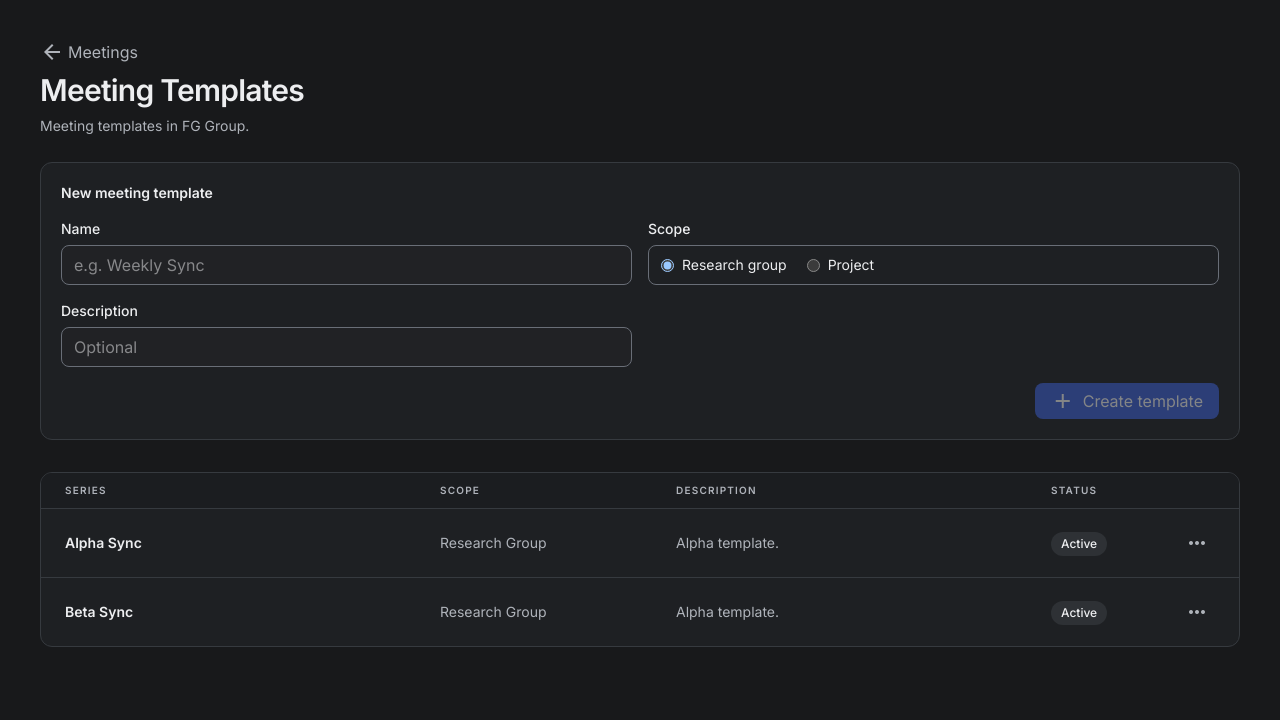
MeetingSeriesListPage row-level deletion › opening the menu shows a confirmation dialog that names the selected template
Expected: the button with aria-label "Open Alpha Sync" is shown, [41,509,1239,578]
What coordinates should you click on to do the following:
click the 2nd button named "Template actions"
I would click on:
 (1197, 612)
Its box is [1179,594,1215,630].
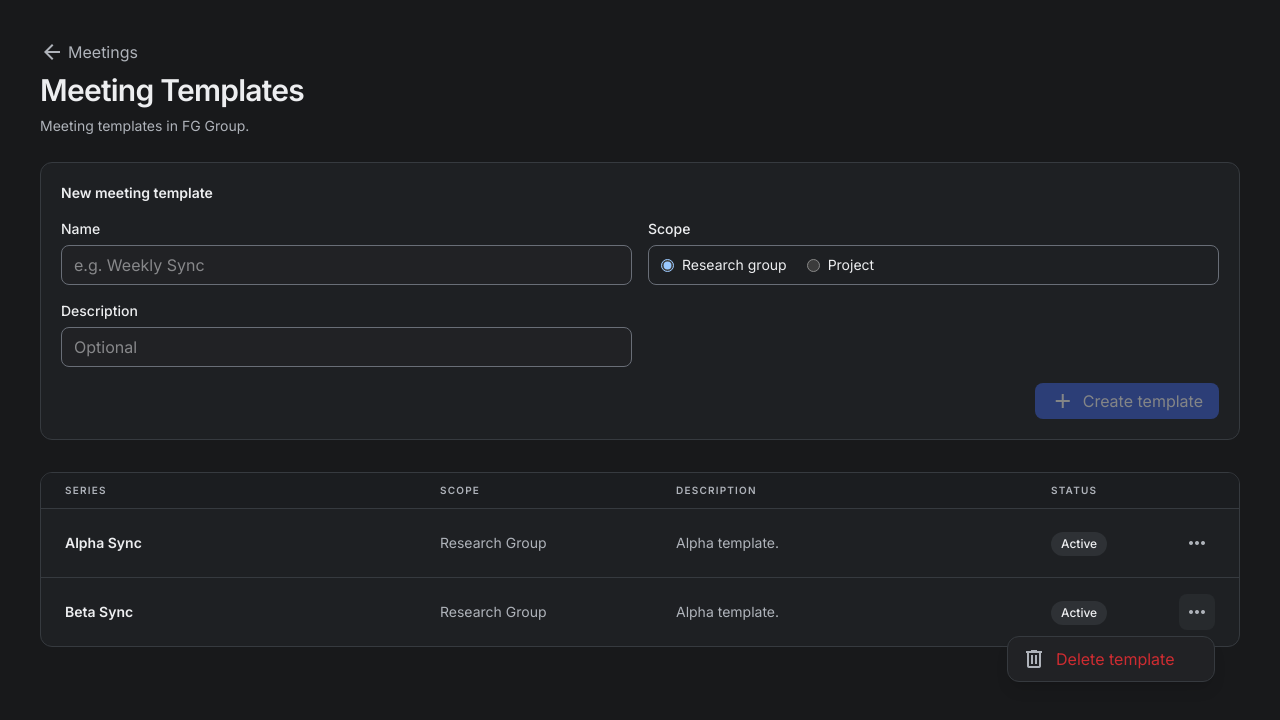
What coordinates should you click on to do the following:
click the menu item "Delete template"
I would click on:
 (1111, 659)
Its box is [1012,641,1210,677].
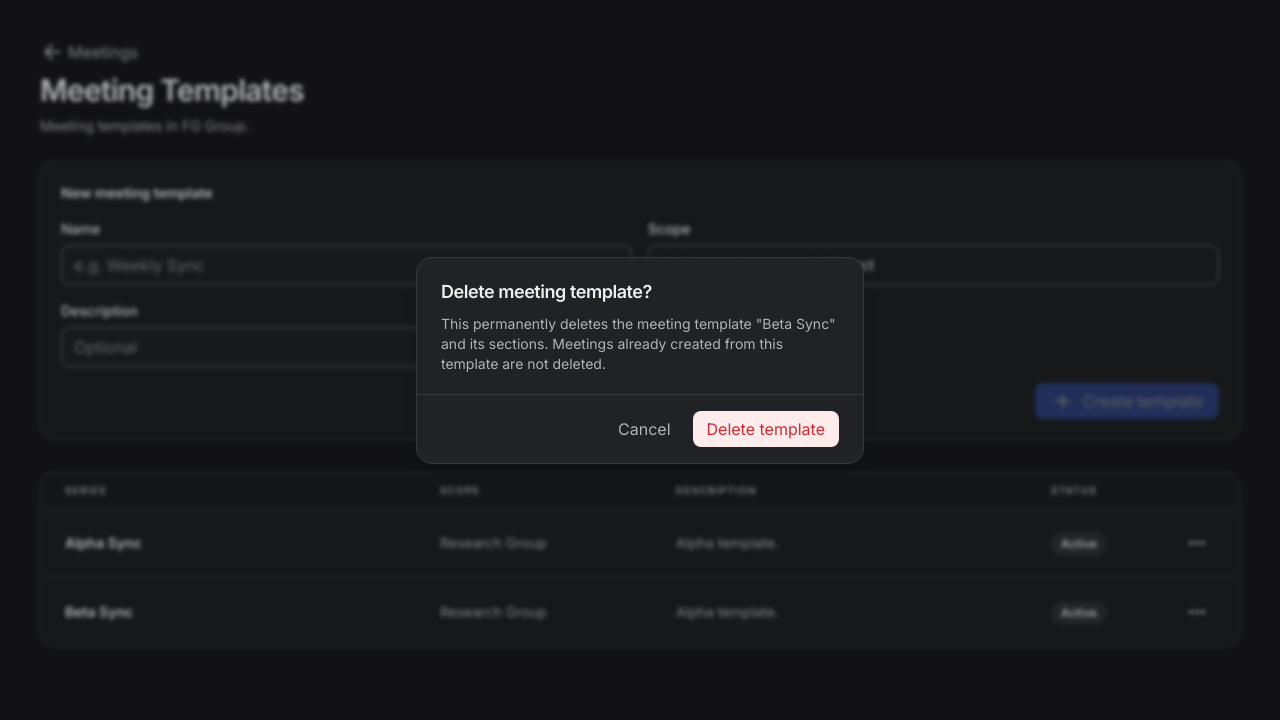
Now the dialog "Delete meeting template?" is shown, box [416,256,864,464]
Now the text "Beta Sync" is shown, box [762,314,829,332]
